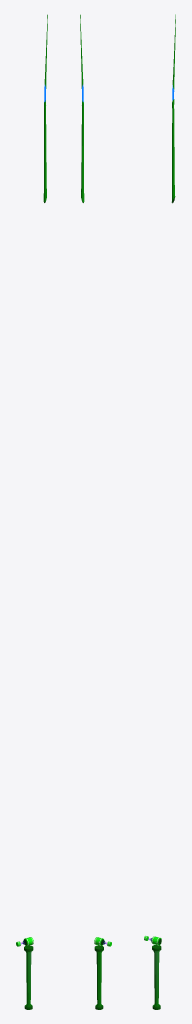
File: claw contraption.fbx
3 renders of one model, left to right at view 1: azimuth 30°, elevation 25°; view 2: azimuth 150°, elevation 25°; view 3: azimuth 330°, elevation 25°, orthographic.
Parts seen in each view (by area): view 1: Big Arm, SmallArm; view 2: Big Arm, SmallArm; view 3: SmallArm, Big Arm.
Part boxes in pixels (bbox=[...]): Big Arm: bbox=[25, 951, 31, 1006]; SmallArm: bbox=[43, 100, 46, 202]; Big Arm: bbox=[96, 951, 102, 1006]; SmallArm: bbox=[81, 100, 84, 202]; SmallArm: bbox=[171, 99, 175, 203]; Big Arm: bbox=[153, 951, 159, 1006].
Size of the model in its own units: 27.38 by 841 by 7.1.
